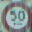Speed limit: (0, 1, 31, 28)
